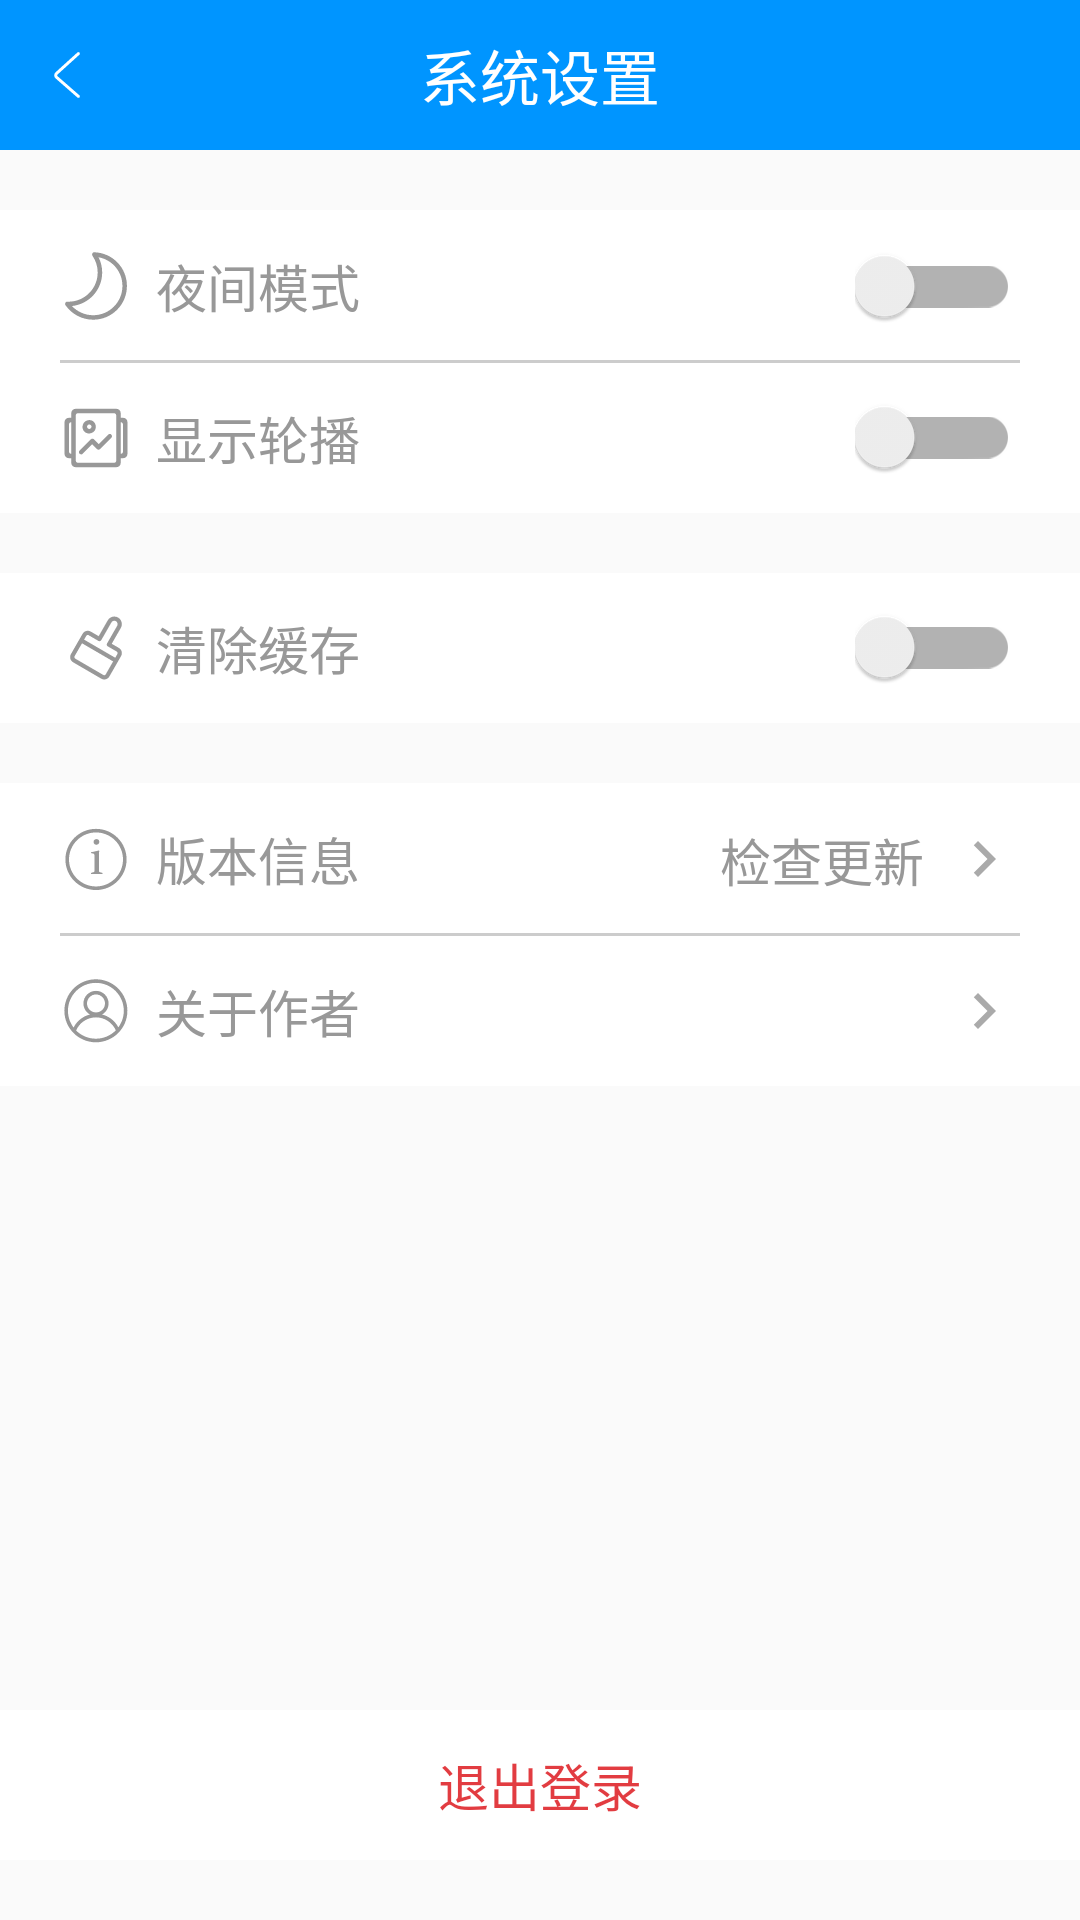

Where to tap for icons on this 1080 x 1920 app screen, as (x,y):
title back: (67,75)
